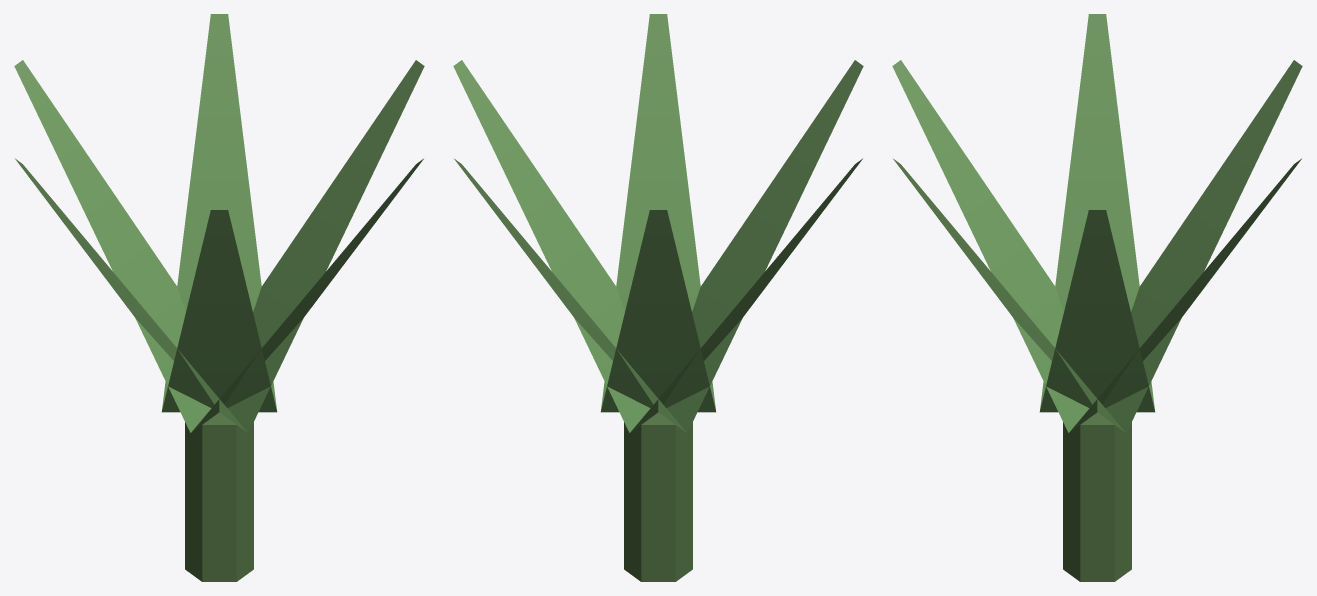
The model's file is fern.glb.
The picture shows the model from 3 angles, left to right: view 1: azimuth 30°, elevation 25°; view 2: azimuth 150°, elevation 25°; view 3: azimuth 270°, elevation 25°; orthographic projection.
Visible parts, largest first — view 1: Fern; view 2: Fern; view 3: Fern.
Part boxes in pixels (x1,y1,x2,y2): Fern: (14, 14, 424, 581); Fern: (453, 14, 863, 581); Fern: (892, 14, 1302, 581).
Size of the model in its own units: 0.4015 by 0.4367 by 0.3552.
